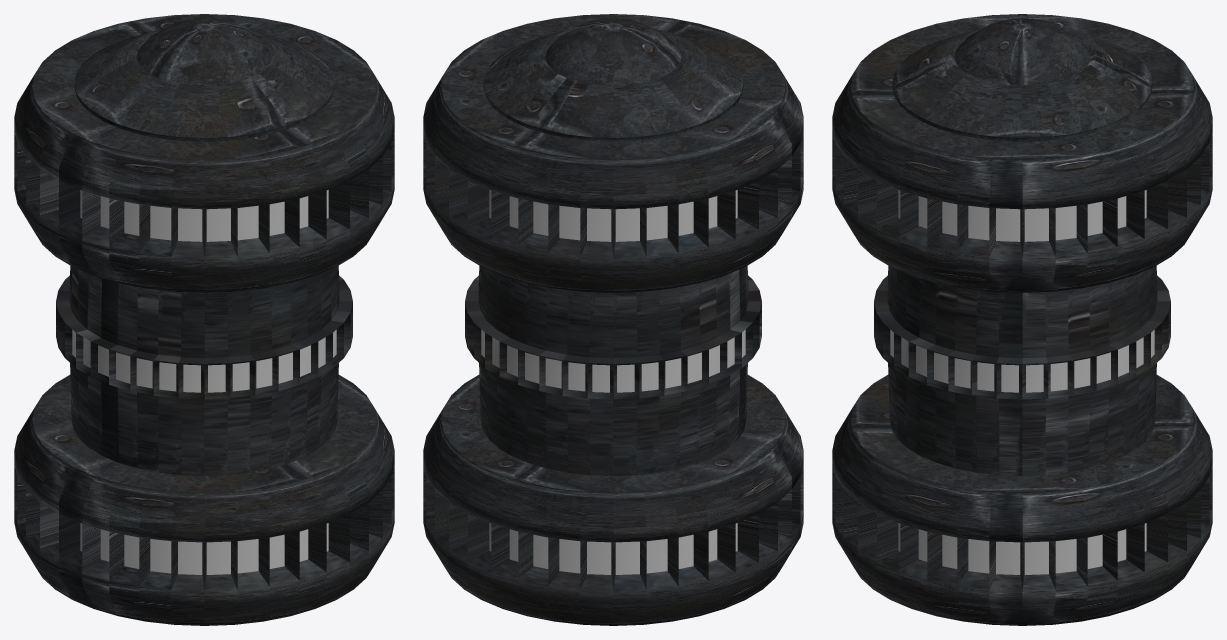
The model's file is flashbang_textured.fbx.
3 renders of one model, left to right at view 1: azimuth 30°, elevation 25°; view 2: azimuth 150°, elevation 25°; view 3: azimuth 270°, elevation 25°, orthographic.
Visible parts, largest first — view 1: Cylinder, Cylinder_1, Cylinder_2, Sphere_1, Cylinder_5, Cylinder_3, Cylinder_4; view 2: Cylinder, Cylinder_1, Cylinder_2, Sphere_1, Cylinder_5, Cylinder_3, Cylinder_4; view 3: Cylinder, Cylinder_1, Cylinder_2, Sphere_1, Cylinder_5, Cylinder_3, Cylinder_4.
Boxes of the visible parts, x1=… form: Cylinder: x1=56, y1=28, x2=352, y2=475; Cylinder_1: x1=14, y1=14, x2=394, y2=292; Cylinder_2: x1=14, y1=375, x2=394, y2=625; Sphere_1: x1=136, y1=18, x2=272, y2=84; Cylinder_5: x1=72, y1=329, x2=336, y2=392; Cylinder_3: x1=80, y1=190, x2=328, y2=241; Cylinder_4: x1=80, y1=523, x2=328, y2=574; Cylinder: x1=465, y1=28, x2=761, y2=475; Cylinder_1: x1=423, y1=14, x2=803, y2=292; Cylinder_2: x1=423, y1=375, x2=803, y2=625; Sphere_1: x1=545, y1=18, x2=681, y2=84; Cylinder_5: x1=481, y1=329, x2=745, y2=392; Cylinder_3: x1=489, y1=190, x2=737, y2=241; Cylinder_4: x1=489, y1=523, x2=737, y2=574; Cylinder: x1=874, y1=28, x2=1170, y2=475; Cylinder_1: x1=832, y1=14, x2=1212, y2=292; Cylinder_2: x1=832, y1=375, x2=1212, y2=625; Sphere_1: x1=954, y1=18, x2=1090, y2=84; Cylinder_5: x1=890, y1=329, x2=1154, y2=392; Cylinder_3: x1=898, y1=190, x2=1146, y2=241; Cylinder_4: x1=898, y1=523, x2=1146, y2=574.
Size of the model in its own units: 146 by 246 by 146.
Materials: 3 (2 with a texture image).
